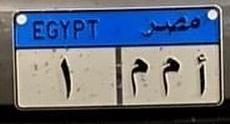1: (58, 56, 76, 101)
alif: (192, 51, 210, 98)
meem: (156, 56, 182, 100), (128, 55, 150, 97)
